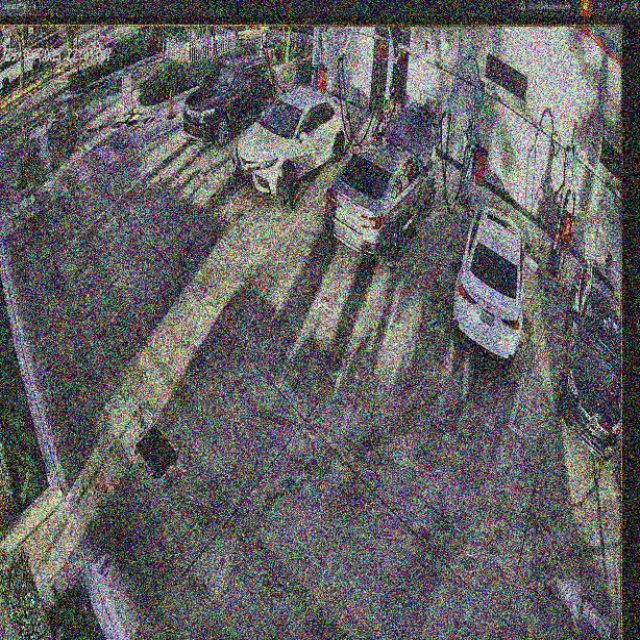Car: (327, 115, 435, 259), (233, 90, 350, 195), (452, 203, 527, 360), (184, 60, 276, 146)
